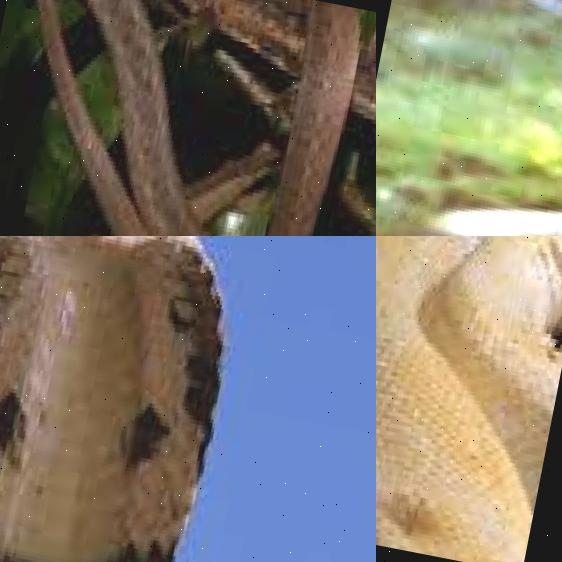snake: (0, 0, 376, 236), (0, 236, 264, 562), (376, 236, 562, 562), (376, 0, 562, 236)
